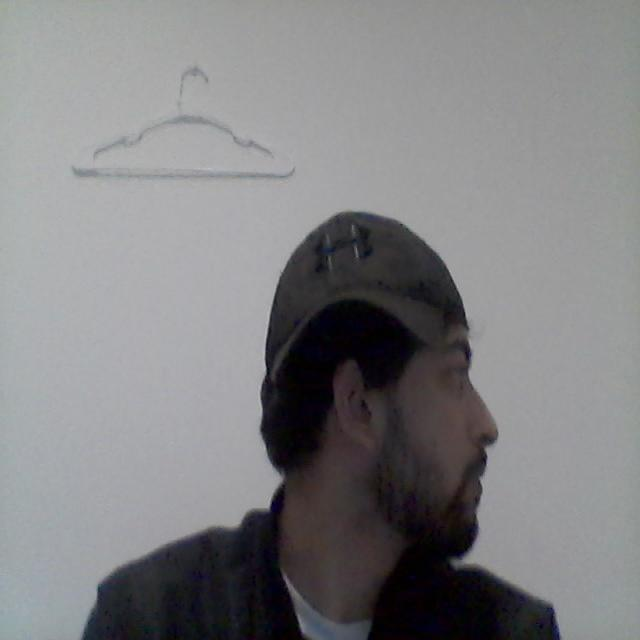cap: (211, 201, 511, 432)
